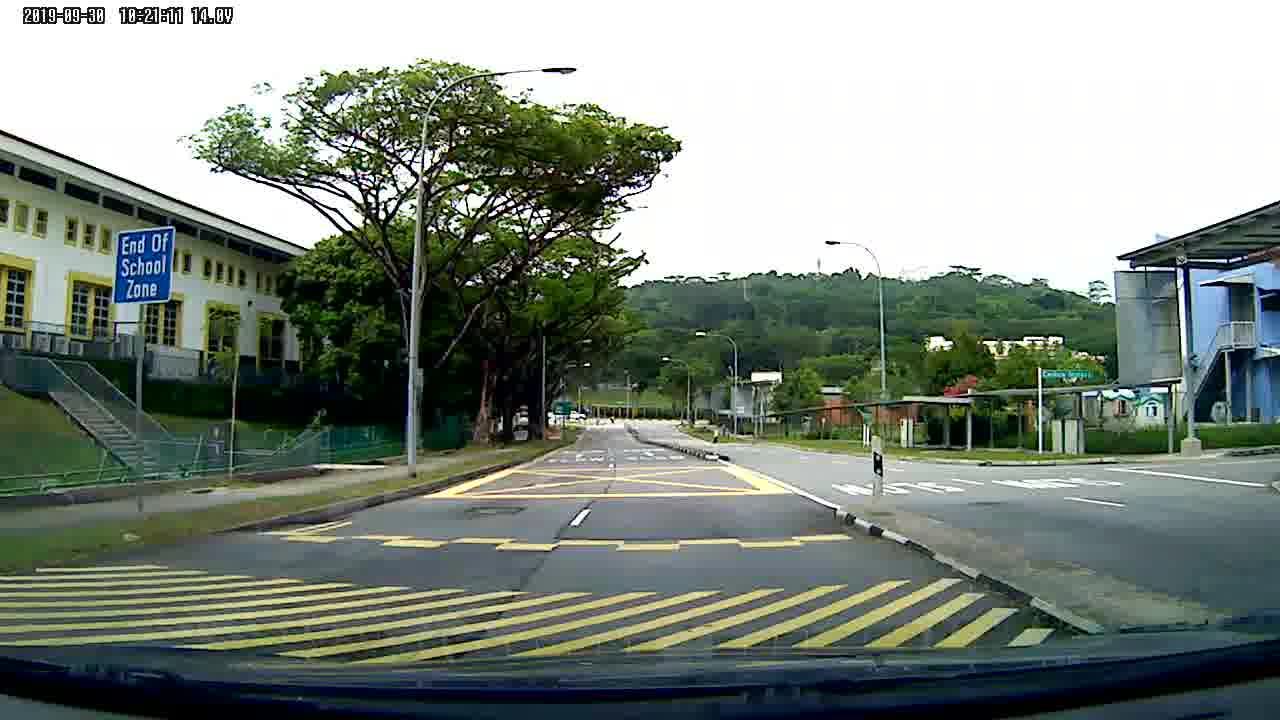car: (572, 409, 589, 422)
